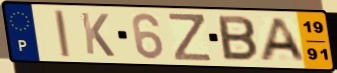6: (129, 11, 166, 61)
A: (257, 17, 310, 64)
B: (216, 14, 260, 63)
I: (51, 9, 73, 59)
K: (78, 10, 117, 59)
Z: (166, 11, 214, 63)
